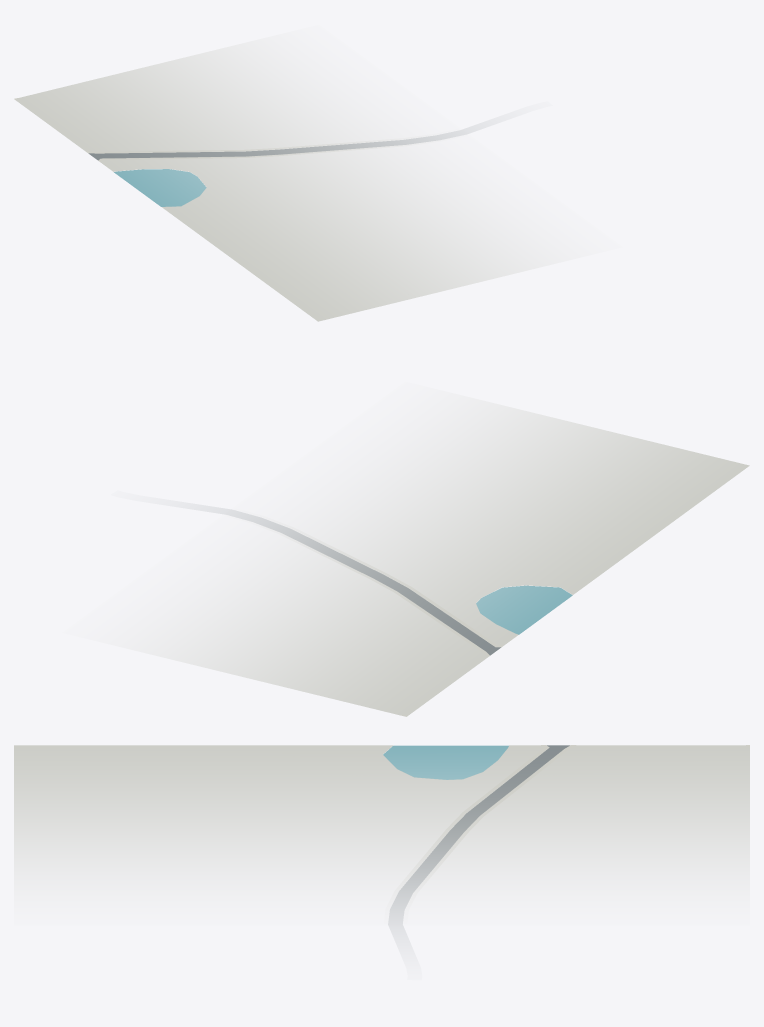
The picture shows the model from 3 angles, top to bottom: view 1: azimuth 30°, elevation 25°; view 2: azimuth 150°, elevation 25°; view 3: azimuth 270°, elevation 25°; orthographic projection. The views are drawn at different scales.
Parts seen in each view (by area): view 1: city; view 2: city; view 3: city.
Part boxes in pixels (x1,y1,x2,y2): city: [14, 40, 559, 321]; city: [133, 399, 749, 716]; city: [14, 745, 749, 935].
Bounding box in the file's own units: 430 × 0.4 × 500.
